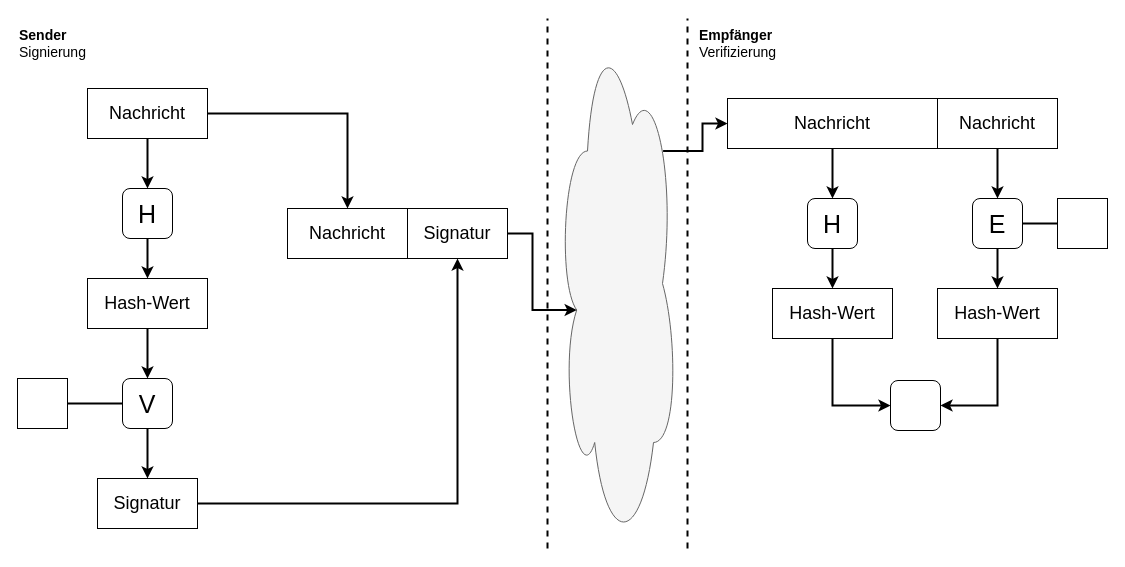
Some shapes in this 1125 by 567 pixel diagram are drawn without their labels. The centre of each missing label's shape, as x and y in pixels:
Internet: the point at 617,283
PS: the point at 42,403
VG: the point at 915,405
ÖS: the point at 1082,223
